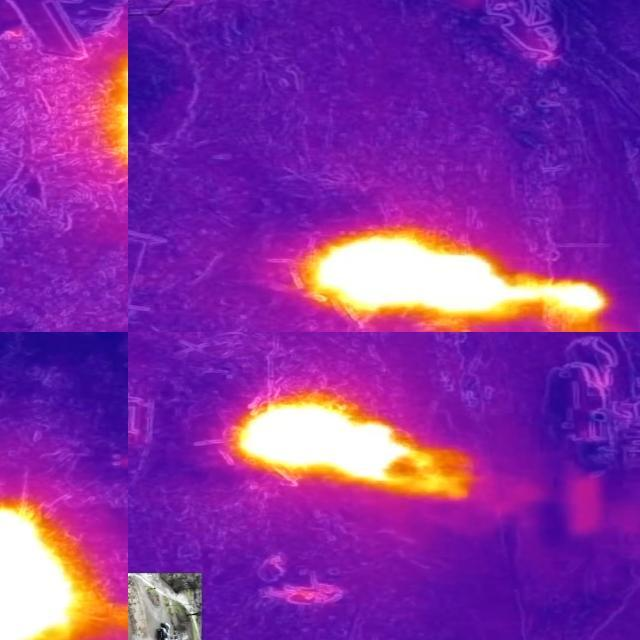fire: (310, 235, 606, 320), (236, 397, 464, 495), (1, 507, 103, 640)
